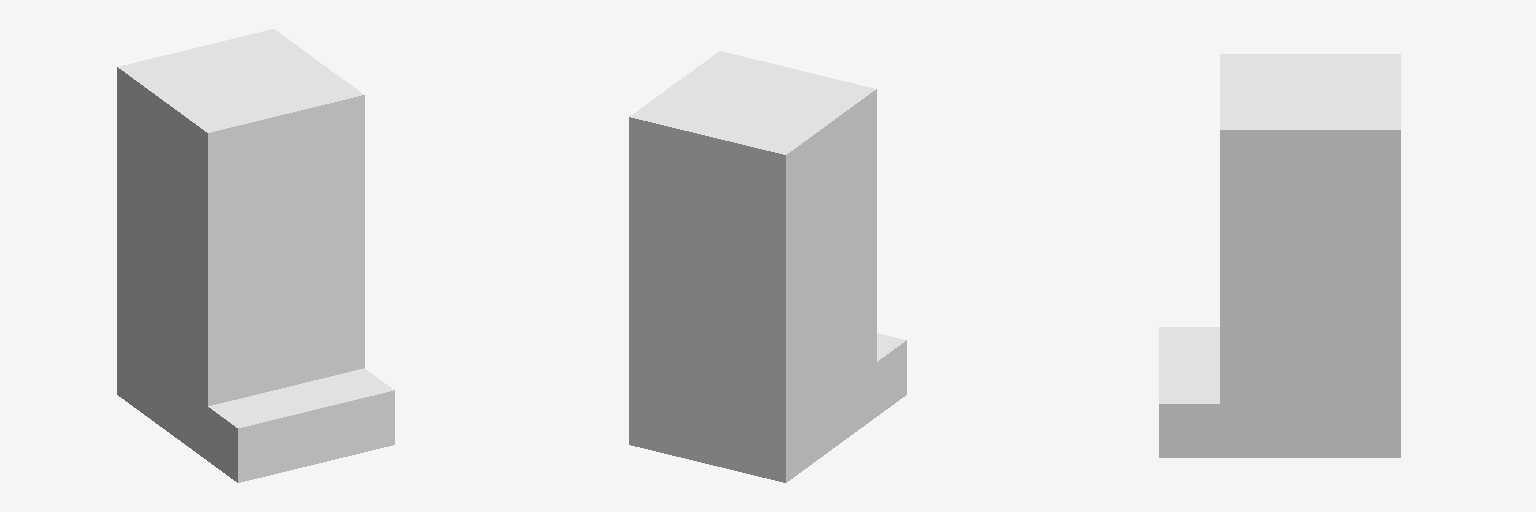
The model's file is bearLeg.vox.obj.
The picture shows the model from 3 angles: view 1: azimuth 30°, elevation 25°; view 2: azimuth 150°, elevation 25°; view 3: azimuth 270°, elevation 25°; orthographic projection.
Parts seen in each view (by area): view 1: object 1; view 2: object 1; view 3: object 1.
Part boxes in pixels (x1,y1,x2,y2): object 1: (117, 29, 394, 482); object 1: (629, 51, 906, 482); object 1: (1159, 54, 1400, 457).
Size of the model in its own units: 0.3 by 0.6 by 0.4.